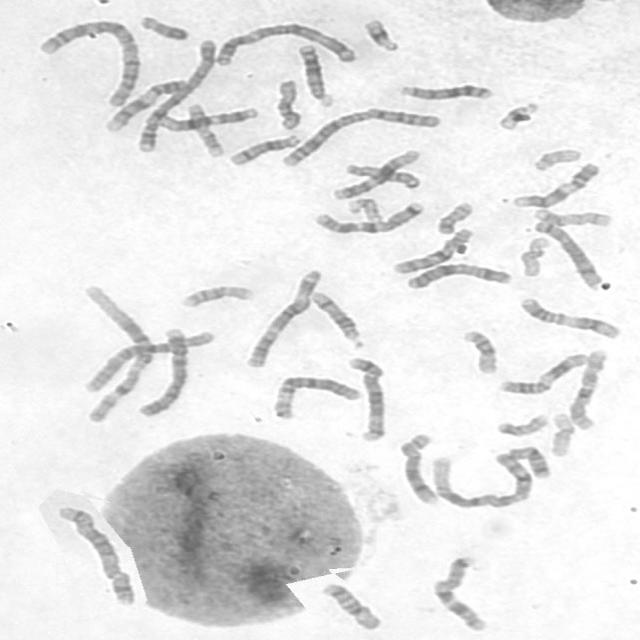A1: (76, 280, 157, 424), (425, 444, 540, 510)
A2: (274, 104, 443, 168), (32, 15, 144, 108)
A3: (239, 265, 324, 369), (208, 18, 361, 68)
B4: (129, 36, 218, 153), (132, 323, 192, 418)
B5: (51, 501, 138, 607), (341, 352, 389, 443)
C10: (386, 224, 476, 275), (564, 345, 611, 432)
C11: (514, 292, 624, 341), (492, 349, 591, 396)
C12: (327, 145, 424, 201), (152, 103, 260, 132)
C6: (76, 326, 218, 394), (267, 372, 364, 421)
C7: (426, 551, 492, 632), (308, 196, 427, 236)
C8: (528, 215, 606, 291), (392, 428, 440, 506)
C9: (505, 158, 602, 210), (100, 76, 187, 133)
D13: (291, 39, 336, 108), (393, 79, 496, 102)
D14: (305, 286, 365, 348), (223, 130, 304, 168)
D15: (341, 159, 424, 191), (270, 75, 304, 131)
E16: (174, 281, 256, 309), (456, 326, 501, 375)
E17: (182, 98, 226, 158), (527, 204, 615, 228)
E18: (316, 578, 383, 632), (493, 444, 552, 481)
F19: (514, 233, 552, 278), (544, 408, 577, 458)
F20: (430, 197, 476, 235), (492, 410, 552, 438)
G21: (357, 14, 402, 53), (492, 97, 542, 132)
G22: (528, 144, 582, 173), (342, 195, 385, 222)
X: (400, 259, 515, 290)
Y: (134, 11, 192, 42)
